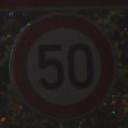speed_limit_50: (7, 10, 118, 120)
